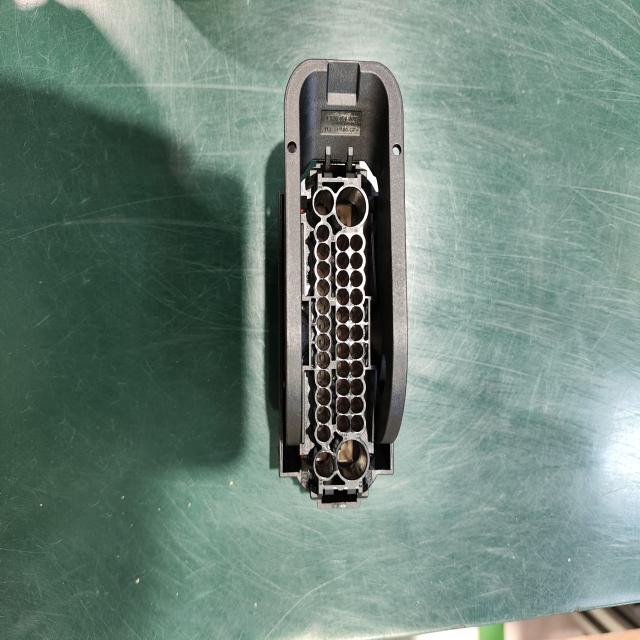P38: (278, 59, 408, 509)
